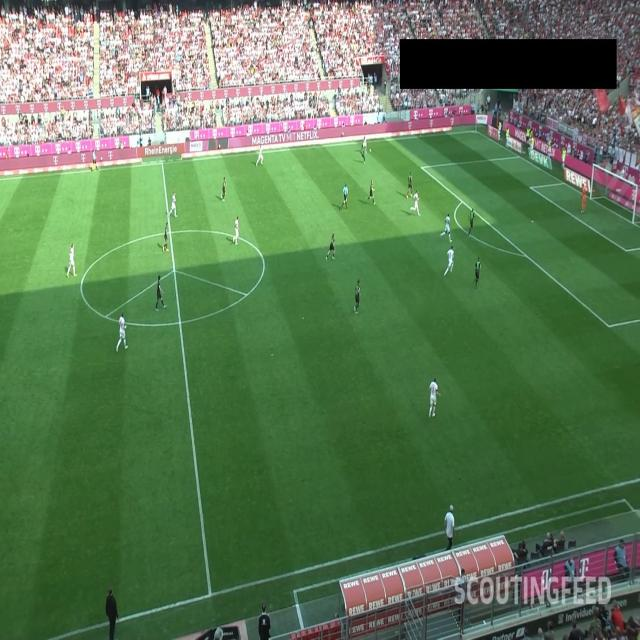ball: (369, 148, 372, 153)
